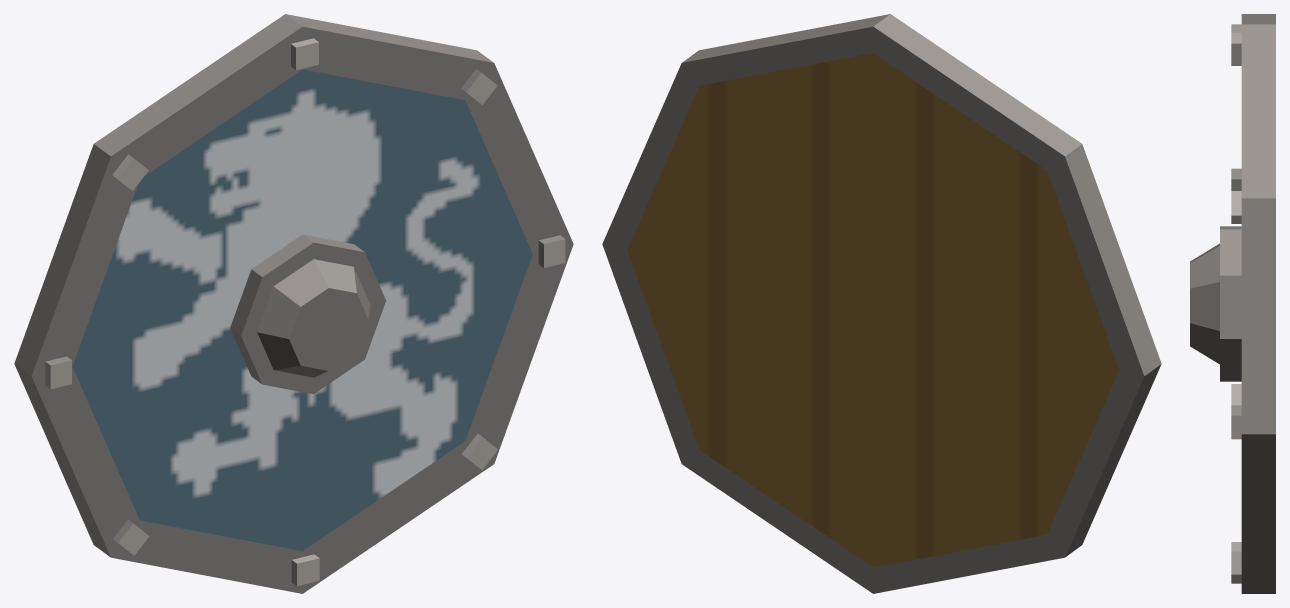
Rendered from SF_Wep_RoundShield_Symbol_01.fbx.
3 views of the same model, side by side, from view 1: azimuth 30°, elevation 25°; view 2: azimuth 150°, elevation 25°; view 3: azimuth 270°, elevation 25° (orthographic).
Visible parts, largest first — view 1: SF_Wep_RoundShield_Symbol_01; view 2: SF_Wep_RoundShield_Symbol_01; view 3: SF_Wep_RoundShield_Symbol_01.
Part boxes in pixels (left/top/right/bottom): SF_Wep_RoundShield_Symbol_01: left=14, top=14, right=573, bottom=593; SF_Wep_RoundShield_Symbol_01: left=602, top=14, right=1161, bottom=593; SF_Wep_RoundShield_Symbol_01: left=1190, top=14, right=1275, bottom=593.
Bounding box in the file's own units: 1.4 × 1.4 × 0.1946.
